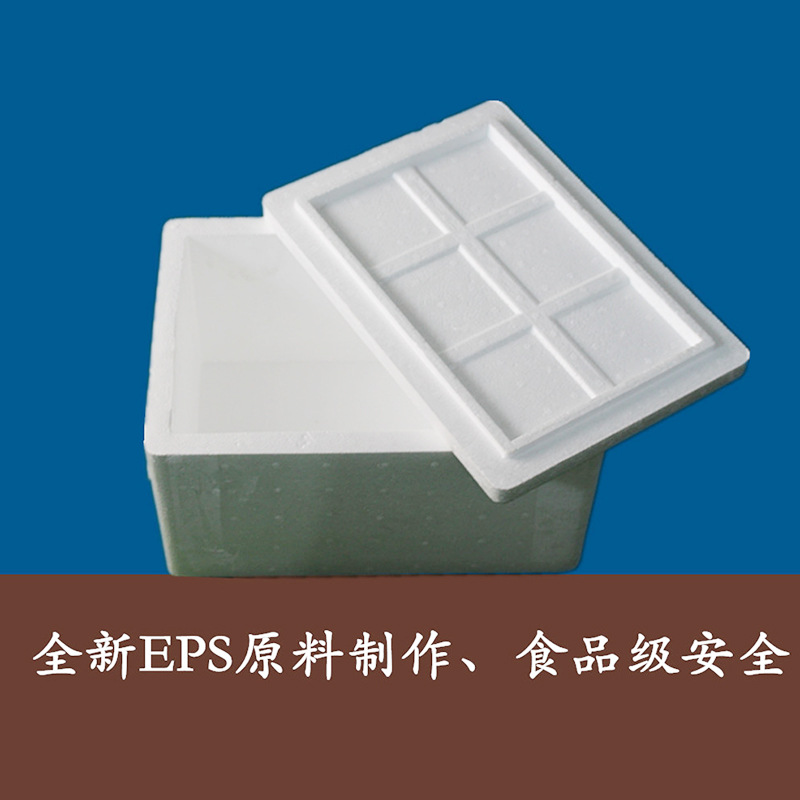泡沫箱: (145, 102, 731, 576)
